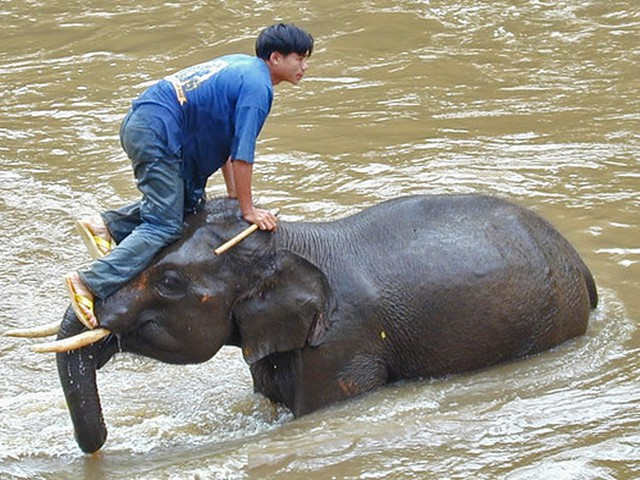Elephant: (50, 197, 602, 437)
Person: (57, 19, 316, 332)
